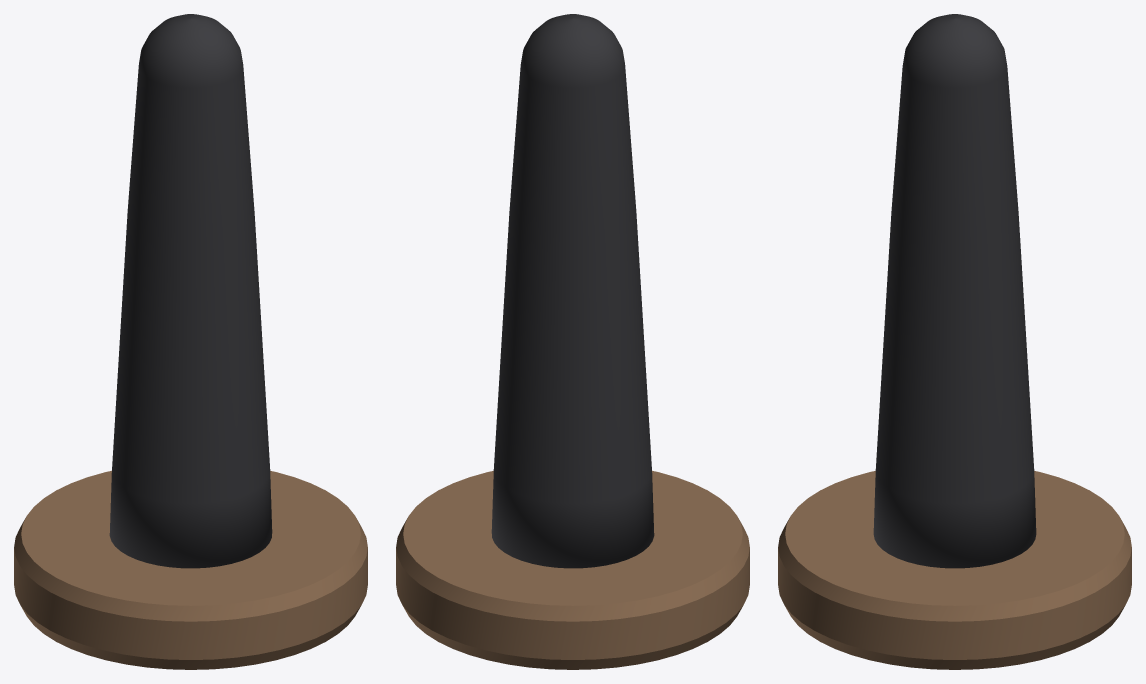
Rendered from RingCone.obj.
3 views of the same model, side by side, from view 1: azimuth 30°, elevation 25°; view 2: azimuth 150°, elevation 25°; view 3: azimuth 270°, elevation 25° (orthographic).
Visible parts, largest first — view 1: VelvetBlack, Walnut; view 2: VelvetBlack, Walnut; view 3: VelvetBlack, Walnut.
Part boxes in pixels (x1,y1,x2,y2): VelvetBlack: [109, 14, 272, 568]; Walnut: [14, 470, 367, 669]; VelvetBlack: [491, 14, 654, 568]; Walnut: [396, 470, 749, 669]; VelvetBlack: [873, 14, 1036, 568]; Walnut: [778, 471, 1131, 669].
Bounding box in the file's own units: 0.05 × 0.0904 × 0.05.
